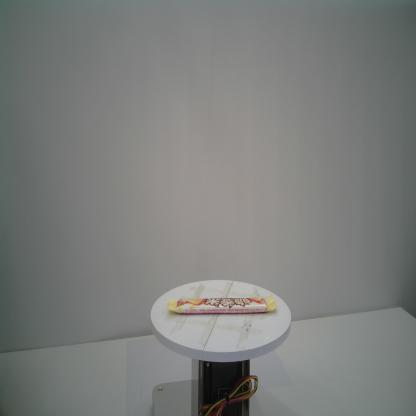Chocolate: (167, 294, 277, 314)
